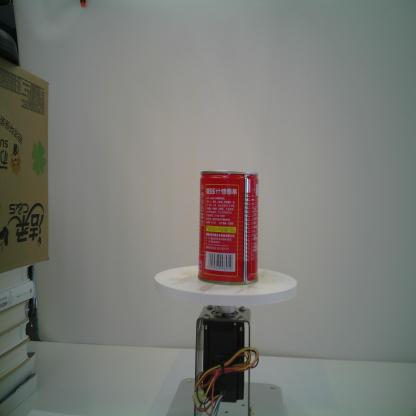Canned Food: (196, 168, 265, 287)
